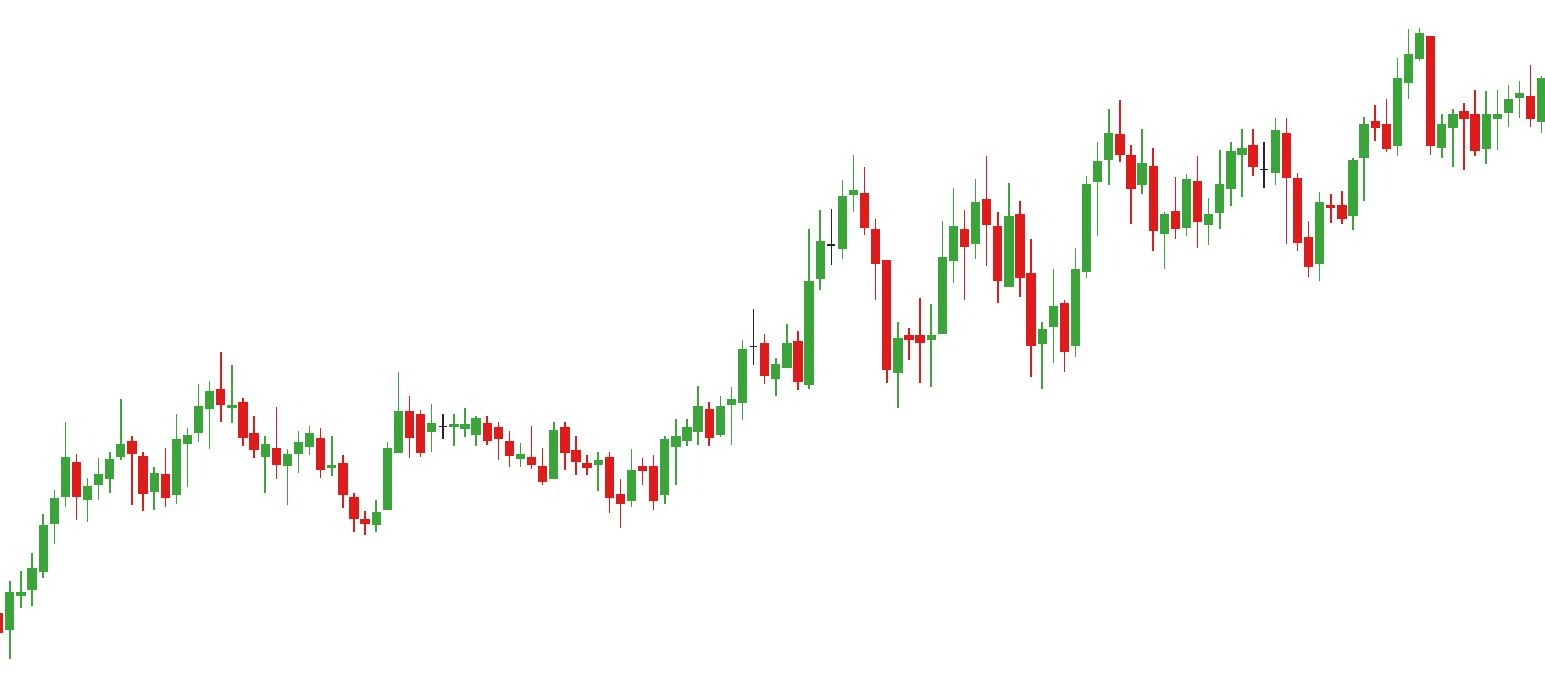buy: (924, 239, 1048, 399), (770, 287, 906, 424), (1190, 170, 1329, 288), (282, 432, 393, 541)
